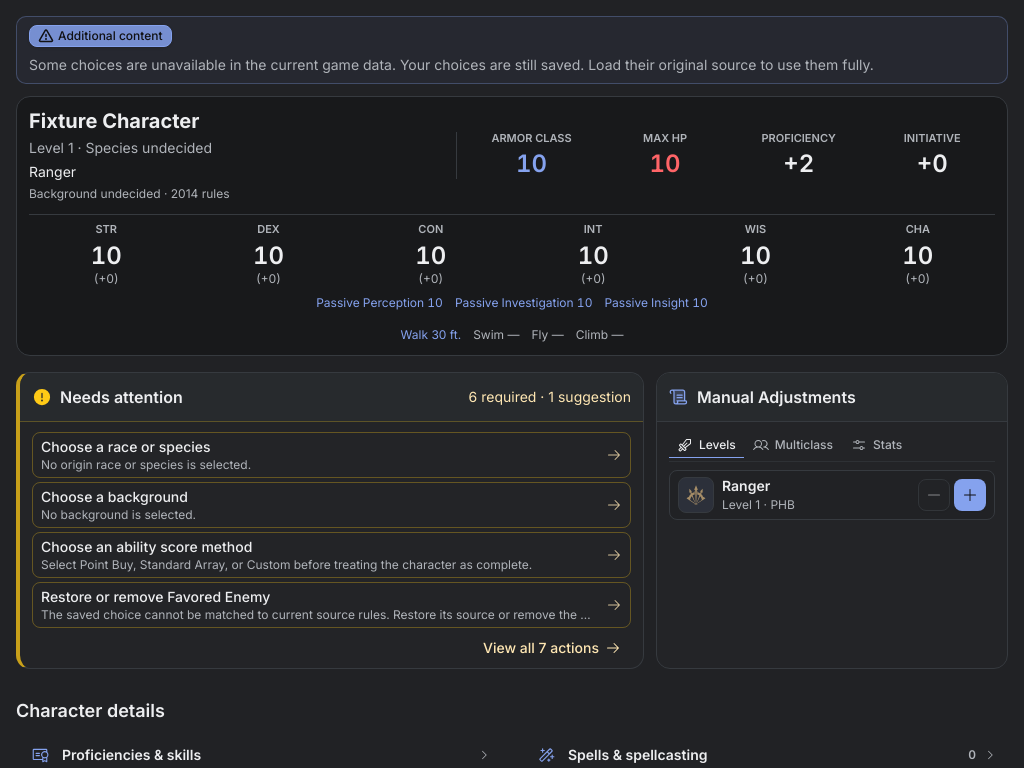
Test: source-unavailable intent has targeted recovery, exact restoration without a write, and source-free Clear
The image size is (1024, 768).
Later steps or results of the test are not shown.
Click the link "Restore or remove Favored Enemy" at x=332, y=605, box [33,583,630,627]
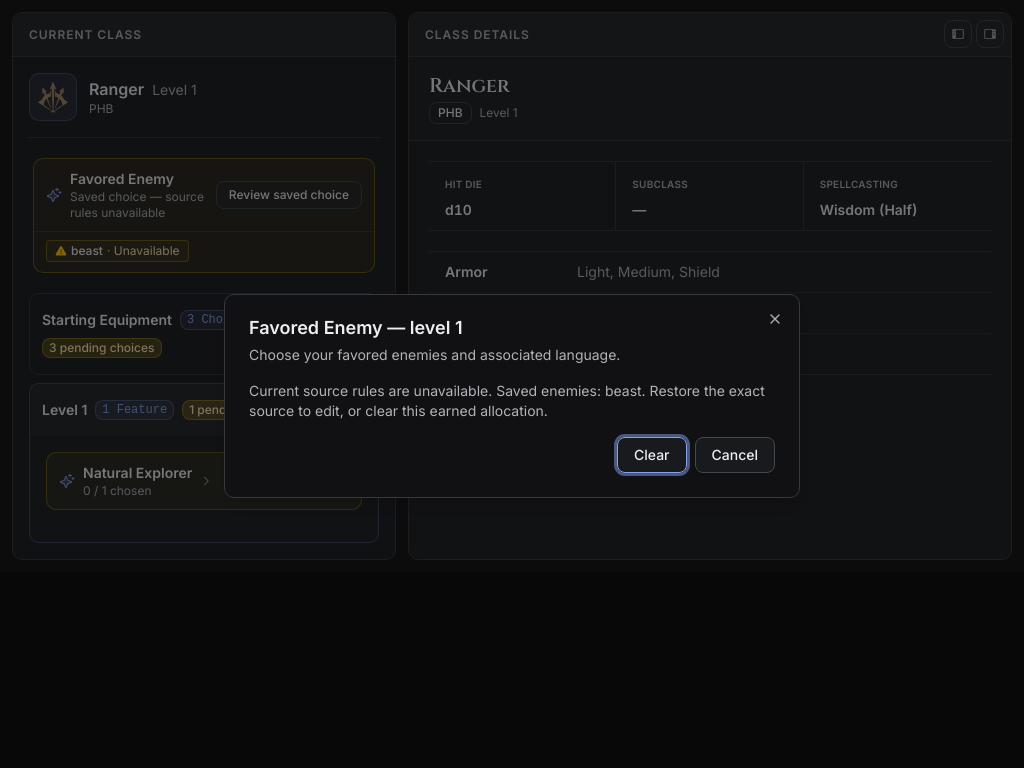
Expected: the dialog is shown, [224,294,800,498]
